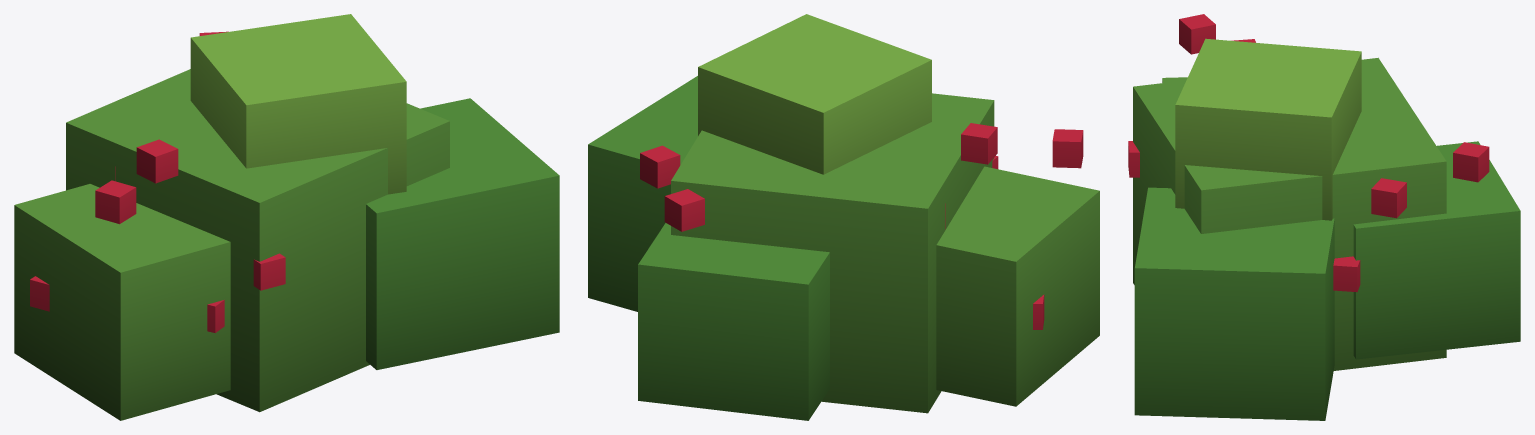
The model's file is B09_bush_berry.glb.
3 renders of one model, left to right at view 1: azimuth 30°, elevation 25°; view 2: azimuth 150°, elevation 25°; view 3: azimuth 270°, elevation 25°, orthographic. The views are drawn at different scales.
Visible parts, largest first — view 1: B09_bush_berry; view 2: B09_bush_berry; view 3: B09_bush_berry.
Boxes of the visible parts, box(x1,y1,x2,y2) form: B09_bush_berry: box(14, 14, 559, 420); B09_bush_berry: box(588, 14, 1099, 420); B09_bush_berry: box(1128, 14, 1520, 420).
Size of the model in its own units: 2.31 by 1.33 by 1.85.
